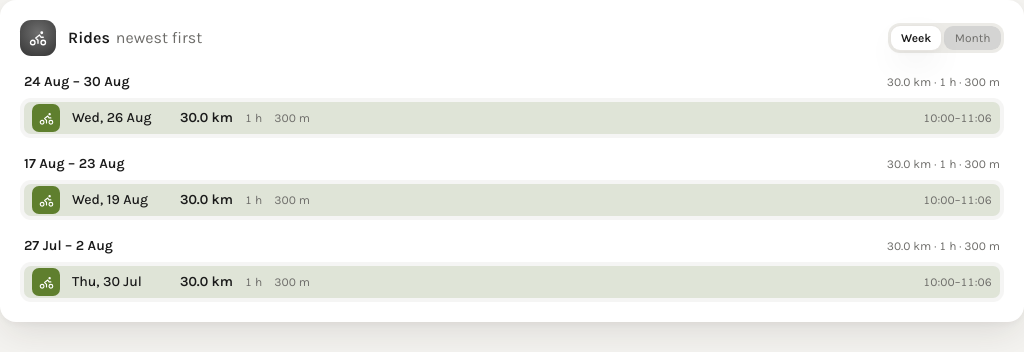
Test: the ride list › groups the same rides by month on request, the month's totals in its heading
Click the button "Month": (973, 38) x1=944 y1=26 x2=1001 y2=50
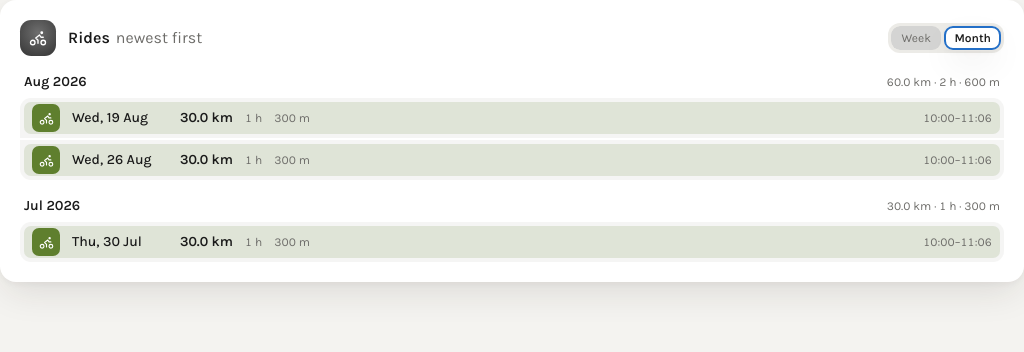
Result: the number of elements named "Month " is 2 at x1=20 y1=72 x2=1004 y2=180; x1=20 y1=196 x2=1004 y2=262
Result: the element named "Month " shows "60.0 km" at x1=887 y1=75 x2=931 y2=89
